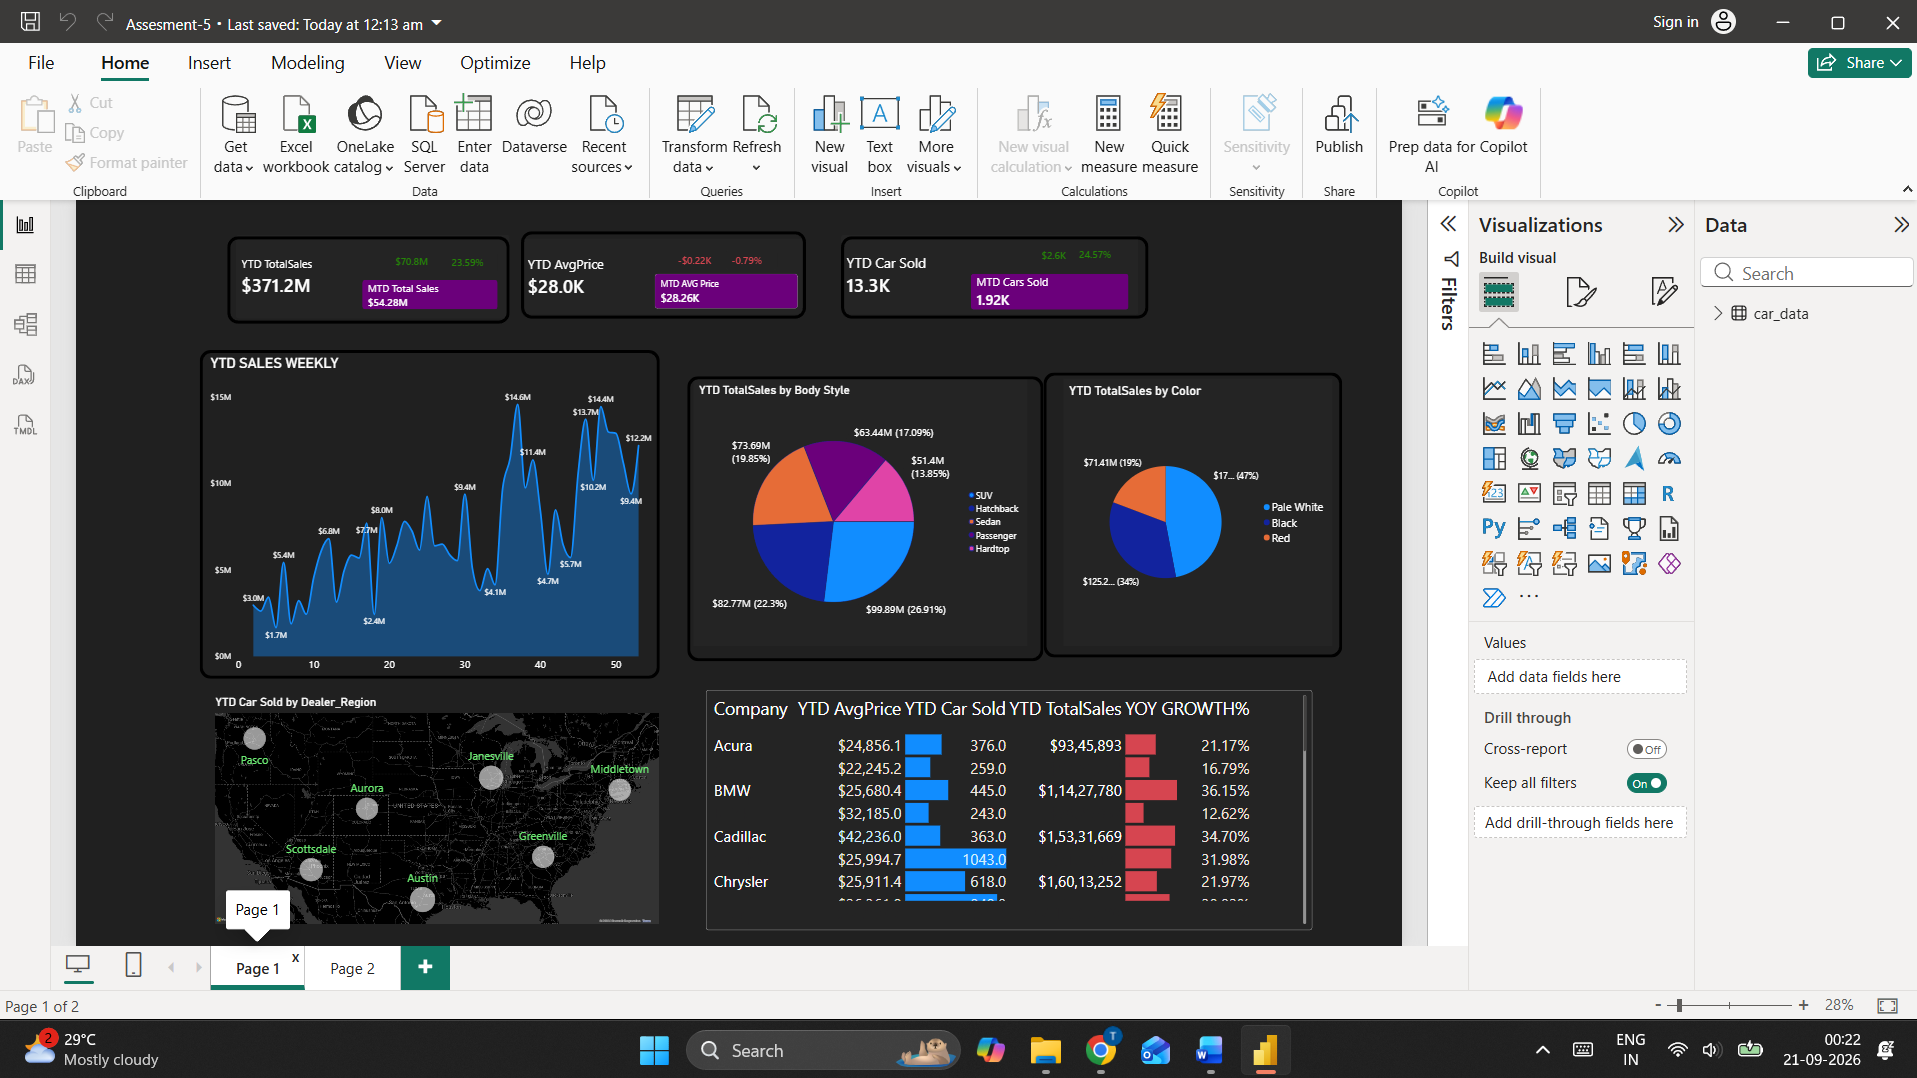

This screenshot's page, from the dashboard's own definition file:
{"tool":"powerbi","page":{"name":"Page 1","canvas":[3840,2160],"ordinal":0},"visuals":[{"type":"cardVisual","fields":{"Data":["car_data.YTD TotalSales"]},"box":[463.3,101.3,792.6,242.5],"z":0},{"type":"cardVisual","fields":{"Data":["car_data.MTD Total Sales"]},"box":[828.8,231.6,392.5,85.1],"z":1000},{"type":"shape","box":[437.9,105,818,253.4],"z":2000},{"type":"cardVisual","fields":{"Data":["car_data.YOY GROWTH%"]},"box":[1071.3,148.4,148.2,65.9],"z":3000},{"type":"cardVisual","fields":{"Data":["car_data.DifferenceYTD-PYTD"]},"box":[908.4,137.5,161.9,76.8],"z":4000},{"type":"cardVisual","fields":{"Data":["car_data.YTD AvgPrice"]},"box":[1292.1,112.2,821.6,220.8],"z":5000},{"type":"shape","box":[2801.4,499.5,865,825.2],"z":6000},{"type":"cardVisual","fields":{"Data":["car_data.MTDAVGPrice"]},"box":[1675.7,213.5,414.4,101.5],"z":7000},{"type":"cardVisual","fields":{"Data":["car_data.YOY GROWTH% AVG"]},"box":[1882,144.8,148.4,57.9],"z":8000},{"type":"cardVisual","fields":{"Data":["car_data.Diif avg ytd - pytd"]},"box":[1726.4,115.8,192.1,118],"z":9000},{"type":"cardVisual","fields":{"Data":["car_data.YTD Car Sold"]},"box":[2215,101.3,861.4,231.6],"z":10000},{"type":"shape","box":[2215,105,890.4,238.9],"z":11000},{"type":"cardVisual","fields":{"Data":["car_data.MTD Cars Sold"]},"box":[2591.4,213.5,456,105],"z":12000},{"type":"cardVisual","fields":{"Data":["car_data.YOY Growth Car Sold"]},"box":[2888.2,94.1,217.2,126.7],"z":13000},{"type":"cardVisual","fields":{"Data":["car_data.Diff car-pytd"]},"box":[2779.6,105,155.6,108.6],"z":14000},{"type":"lineChart","title":"YTD SALES WEEKLY","fields":{"Category":["car_data.week"],"Y":["car_data.YTD TotalSales"]},"box":[372.8,434.3,1331.9,951.9],"z":15000},{"type":"shape","box":[1288.5,90.5,825.2,253.4],"z":16000},{"type":"pieChart","fields":{"Category":["car_data.Body Style"],"Y":["car_data.YTD TotalSales"]},"box":[1787.9,517.6,966.4,774.5],"z":17000},{"type":"pieChart","fields":{"Category":["car_data.Color"],"Y":["car_data.YTD TotalSales"]},"box":[2859.3,517.6,778.2,774.5],"z":18000},{"type":"shape","box":[358.3,434.3,1331.9,951.9],"z":19000},{"type":"map","fields":{"Category":["car_data.Dealer_Region"],"Size":["car_data.YTD Car Sold"]},"box":[387.3,1418.8,1317.4,694.9],"z":20000},{"type":"tableEx","fields":{"Values":["car_data.Company","car_data.YTD AvgPrice","car_data.YTD Car Sold","car_data.YTD TotalSales","car_data.YOY GROWTH%"]},"box":[1824.1,1418.8,1755.4,694.9],"z":21000},{"type":"shape","box":[1769,509.5,1031.5,825.2],"z":21001}]}

Visuals, with their boxes on the page's 3840x2160 design canvas (x1, y1, x2, y2). These are canvas units, not pixel positions in the 1917x1078 screenshot, which may show the page scaled, cropped or inside an application window:
cardVisual - car_data.YTD TotalSales: [x1=463, y1=101, x2=1256, y2=344]
cardVisual - car_data.MTD Total Sales: [x1=829, y1=232, x2=1221, y2=317]
shape: [x1=438, y1=105, x2=1256, y2=358]
cardVisual - car_data.YOY GROWTH%: [x1=1071, y1=148, x2=1220, y2=214]
cardVisual - car_data.DifferenceYTD-PYTD: [x1=908, y1=138, x2=1070, y2=214]
cardVisual - car_data.YTD AvgPrice: [x1=1292, y1=112, x2=2114, y2=333]
shape: [x1=2801, y1=500, x2=3666, y2=1325]
cardVisual - car_data.MTDAVGPrice: [x1=1676, y1=214, x2=2090, y2=315]
cardVisual - car_data.YOY GROWTH% AVG: [x1=1882, y1=145, x2=2030, y2=203]
cardVisual - car_data.Diif avg ytd - pytd: [x1=1726, y1=116, x2=1918, y2=234]
cardVisual - car_data.YTD Car Sold: [x1=2215, y1=101, x2=3076, y2=333]
shape: [x1=2215, y1=105, x2=3105, y2=344]
cardVisual - car_data.MTD Cars Sold: [x1=2591, y1=214, x2=3047, y2=318]
cardVisual - car_data.YOY Growth Car Sold: [x1=2888, y1=94, x2=3105, y2=221]
cardVisual - car_data.Diff car-pytd: [x1=2780, y1=105, x2=2935, y2=214]
"YTD SALES WEEKLY" lineChart: [x1=373, y1=434, x2=1705, y2=1386]
shape: [x1=1288, y1=90, x2=2114, y2=344]
pieChart - car_data.Body Style x car_data.YTD TotalSales: [x1=1788, y1=518, x2=2754, y2=1292]
pieChart - car_data.Color x car_data.YTD TotalSales: [x1=2859, y1=518, x2=3638, y2=1292]
shape: [x1=358, y1=434, x2=1690, y2=1386]
map - car_data.Dealer_Region x car_data.YTD Car Sold: [x1=387, y1=1419, x2=1705, y2=2114]
tableEx - car_data.Company x car_data.YTD AvgPrice: [x1=1824, y1=1419, x2=3580, y2=2114]
shape: [x1=1769, y1=510, x2=2800, y2=1335]
